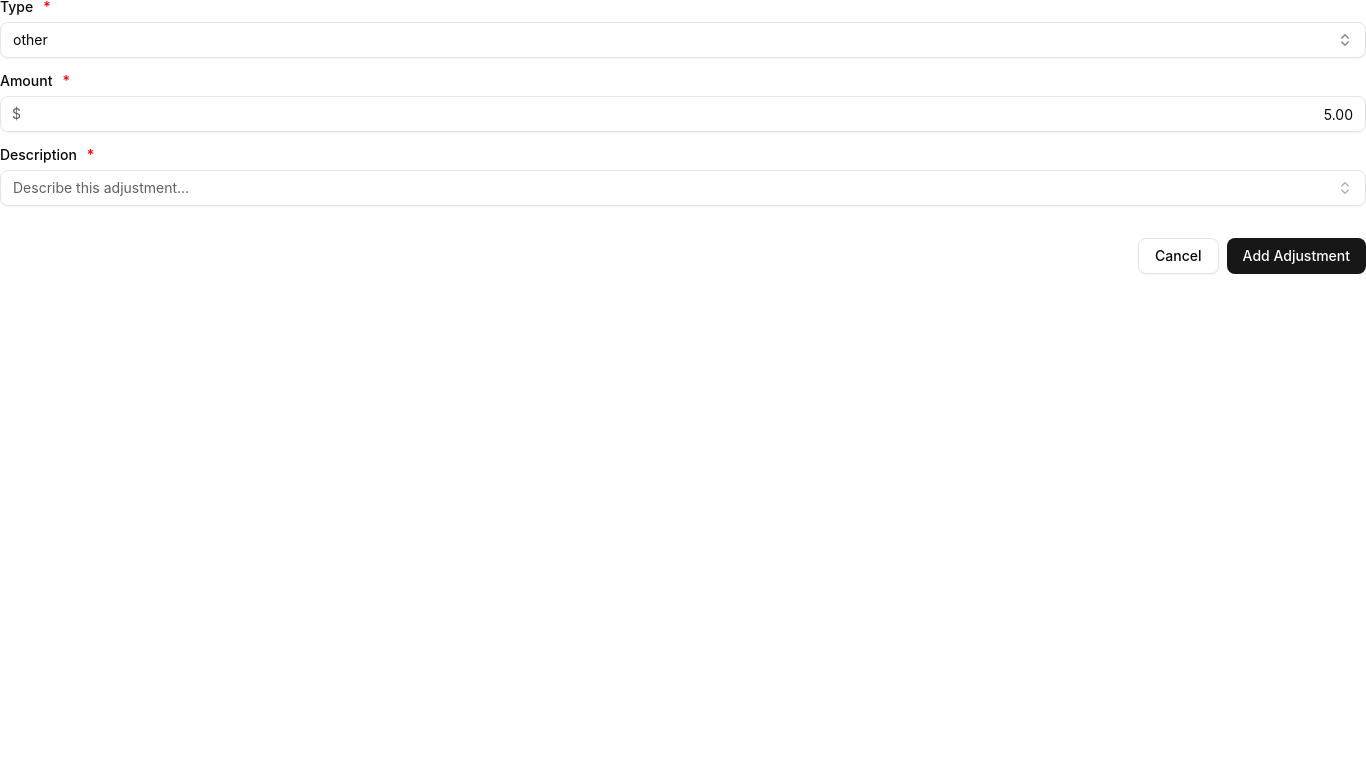
Test: AdjustmentForm › shows saved descriptions in the description Combobox when type is 'other'
Click the dropdown named "Description". click: (101, 188)
box: [0,170,1365,206]
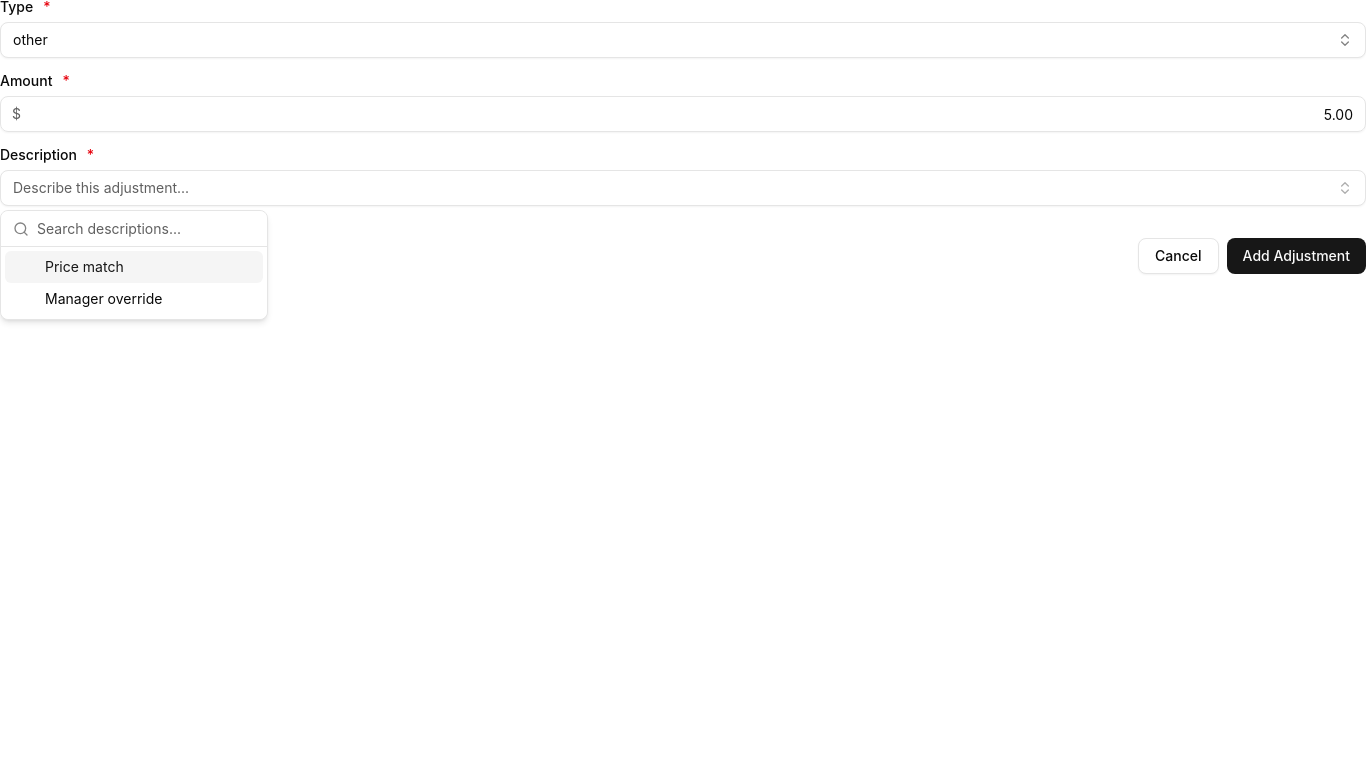
expect the text "Price match" is shown: met, box [45,257,124,277]
expect the text "Manager override" is shown: met, box [45,289,162,309]
